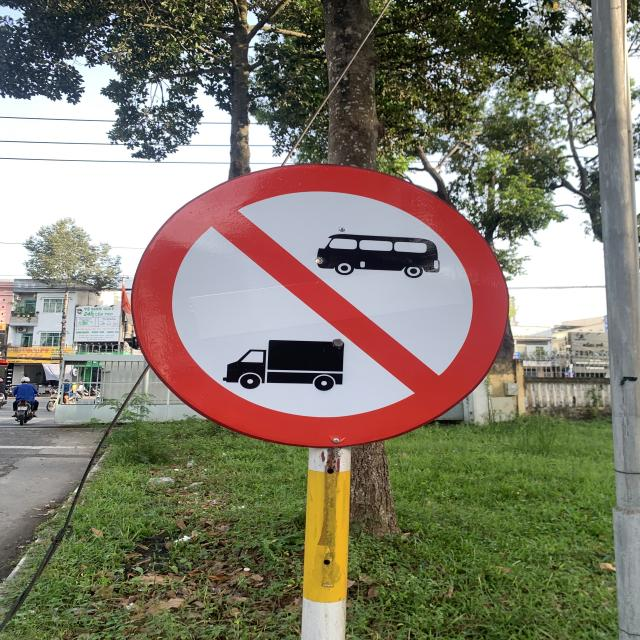Cam_XeTai_XeKhach: (124, 165, 512, 448)
